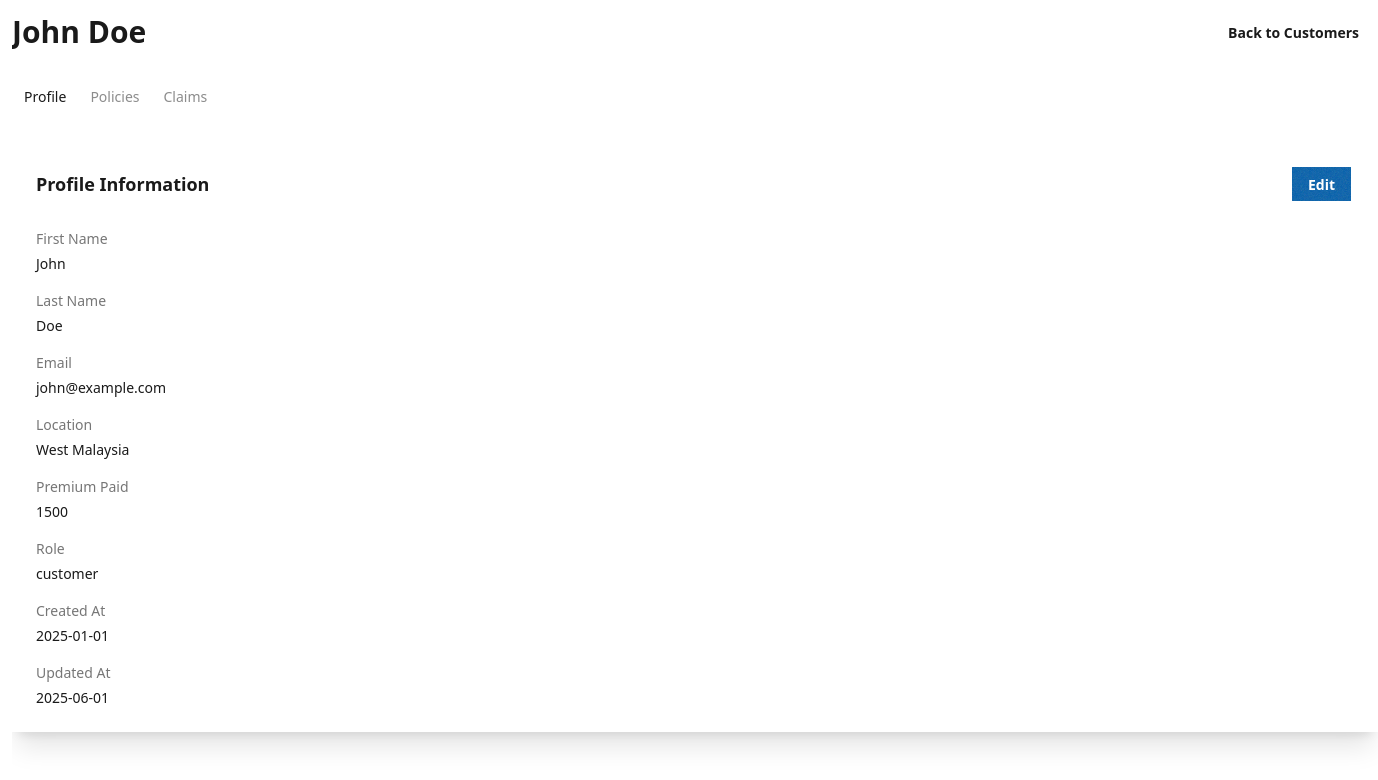
Test: Admin Customer Detail/Edit Page › renders Claims tab with claim data in table
Click the tab "Claims" at (185, 96), box [152,76,219,116]
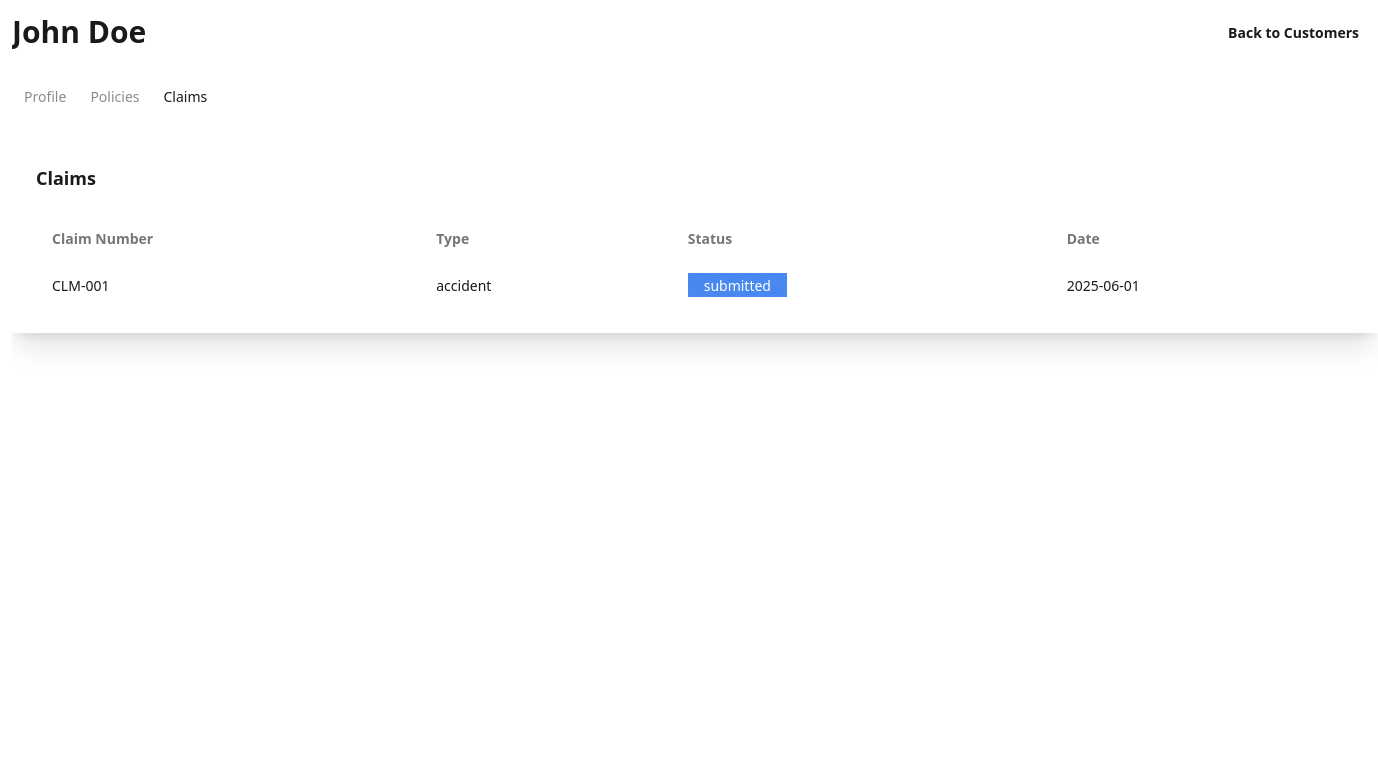
Check: the text "CLM-001" is shown, box [36,261,420,309]
Check: the text "accident" is shown, box [420,261,672,309]
Check: the text "submitted" is shown, box [688,273,787,297]
